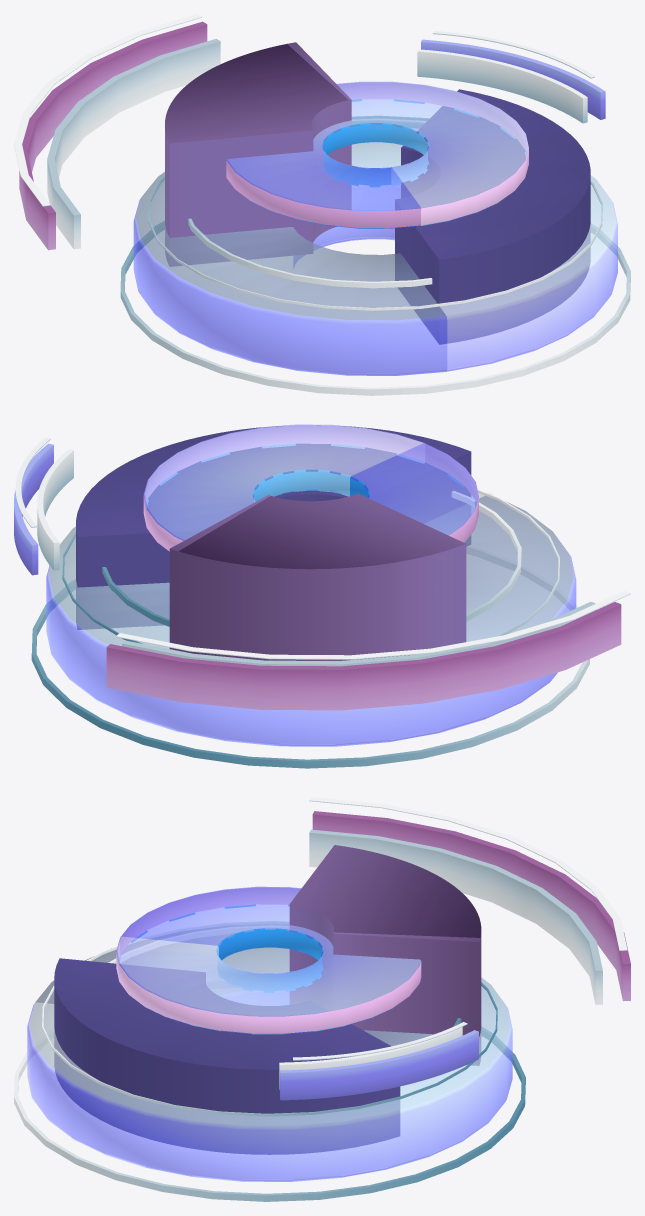
Rendered from deco.glb.
3 renders of one model, top to bottom at view 1: azimuth 30°, elevation 25°; view 2: azimuth 150°, elevation 25°; view 3: azimuth 270°, elevation 25°, orthographic. The views are drawn at different scales.
Parts seen in each view (by area): view 1: table, deco.001, deco; view 2: table, deco.001, deco; view 3: table, deco.001, deco.
Boxes of the visible parts, bbox=[...] form: table: bbox=[120, 42, 630, 395]; deco.001: bbox=[14, 14, 220, 250]; deco: bbox=[417, 31, 605, 123]; table: bbox=[31, 424, 589, 768]; deco.001: bbox=[106, 590, 630, 710]; deco: bbox=[14, 437, 73, 575]; table: bbox=[14, 845, 525, 1201]; deco.001: bbox=[309, 797, 630, 1004]; deco: bbox=[279, 1022, 478, 1100].
Size of the model in its own units: 2.49 by 0.709 by 2.43.
Materials: 6 (6 with a texture image).
